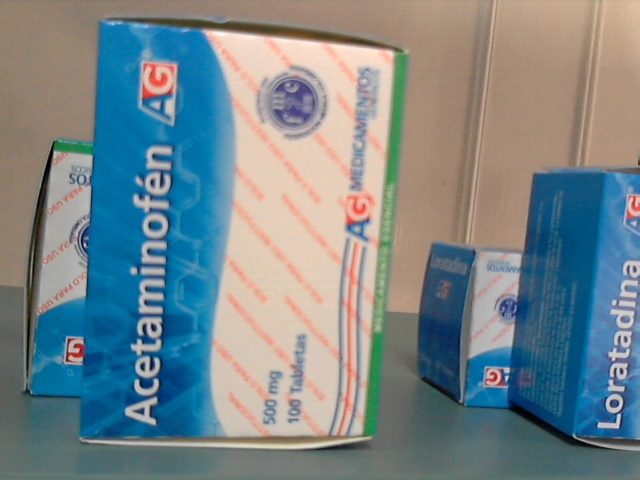AG: (82, 22, 409, 435)
